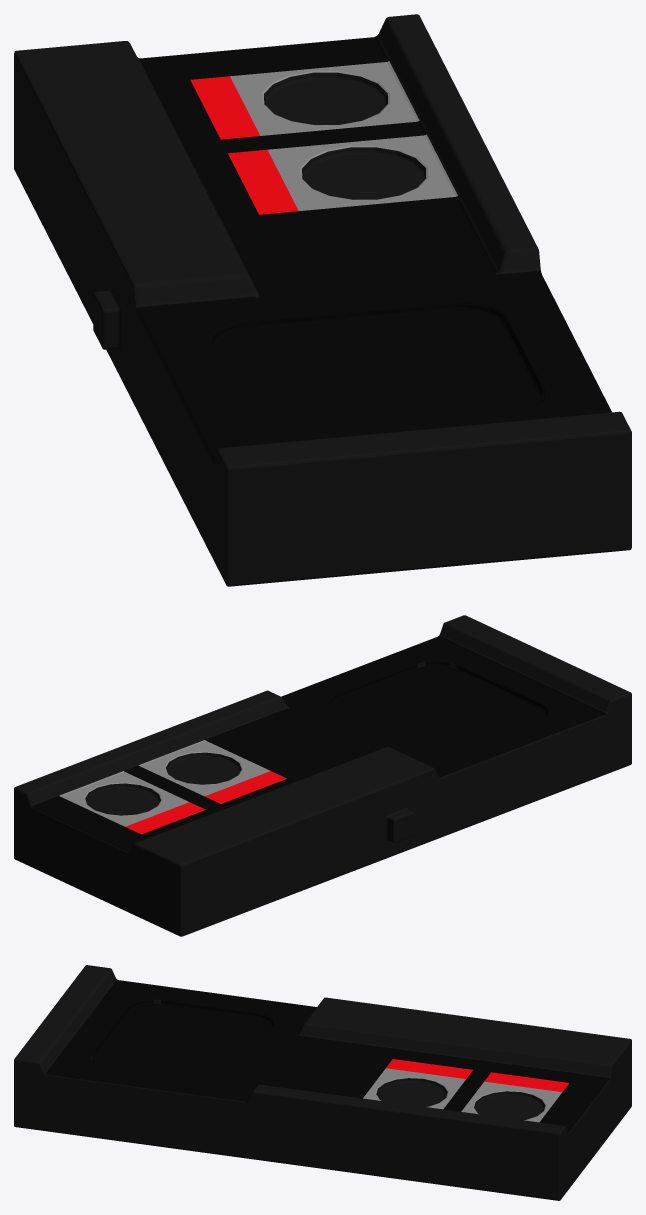
Rendered from consoleControllerFrame.glb.
3 renders of one model, top to bottom at view 1: azimuth 30°, elevation 25°; view 2: azimuth 150°, elevation 25°; view 3: azimuth 270°, elevation 25°, orthographic. The views are drawn at different scales.
Visible parts, largest first — view 1: Cube.015; view 2: Cube.015; view 3: Cube.015.
Boxes of the visible parts, x1=… form: Cube.015: x1=14, y1=14, x2=631, y2=586; Cube.015: x1=14, y1=615, x2=631, y2=936; Cube.015: x1=14, y1=965, x2=631, y2=1200.
Size of the model in its own units: 0.2453 by 0.0463 by 0.3794.
